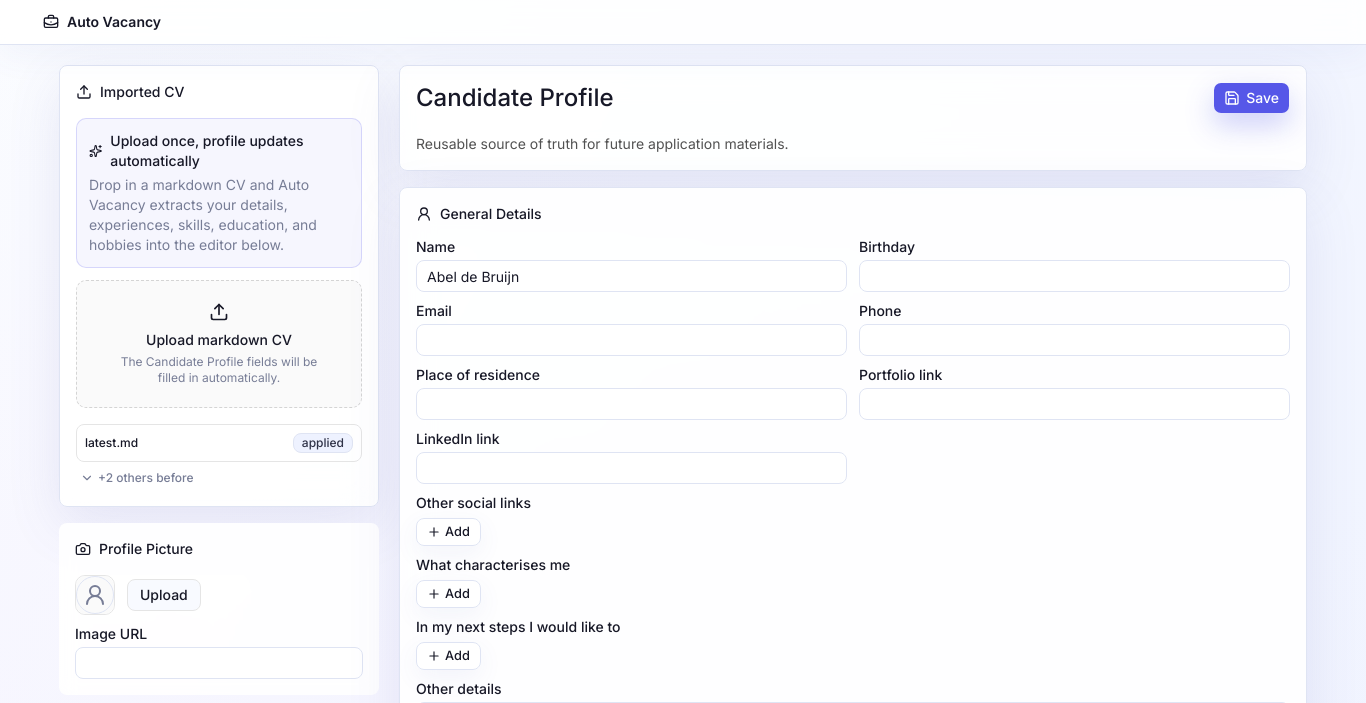
ProfileApp › hides Imported CV errors and collapses older history
Expected: the text "latest.md" is shown, [85,435,138,451]
Click the button "+2 others before": (137, 478) [76,470,198,486]
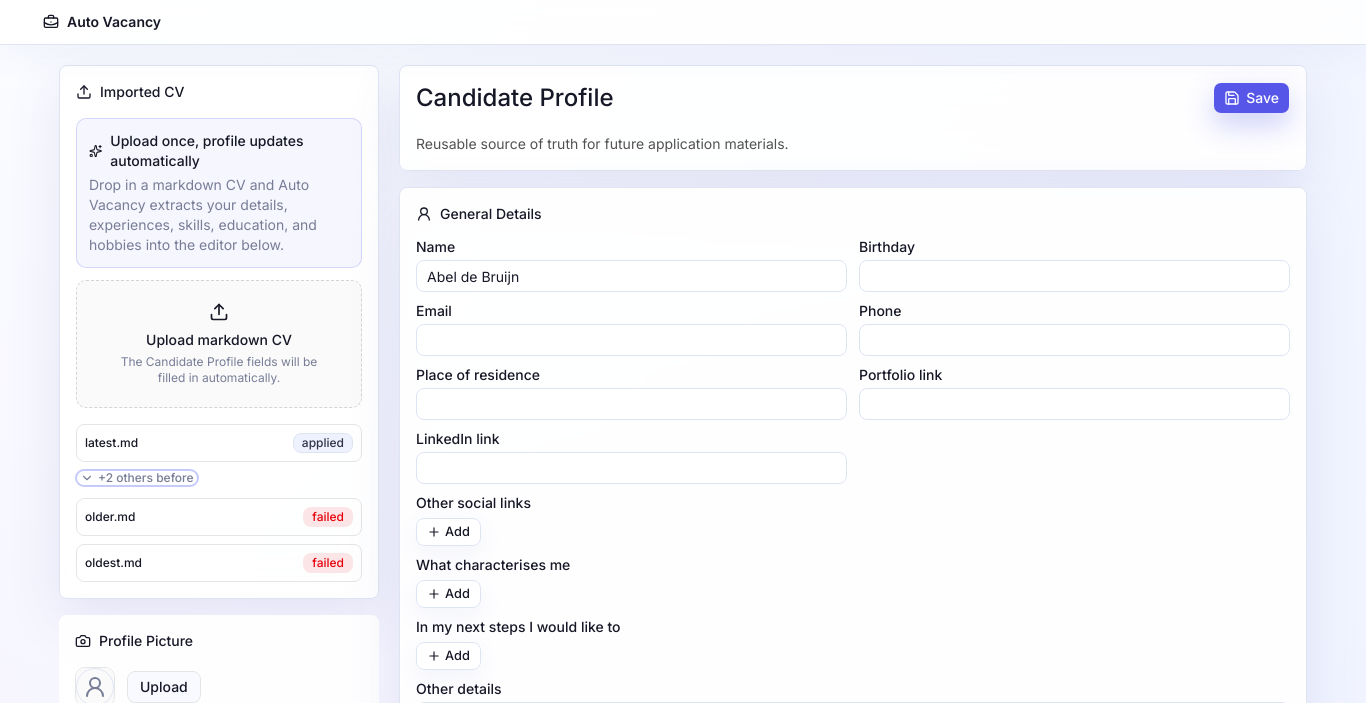
Expected: the text "older.md" is shown, [85,509,135,525]
